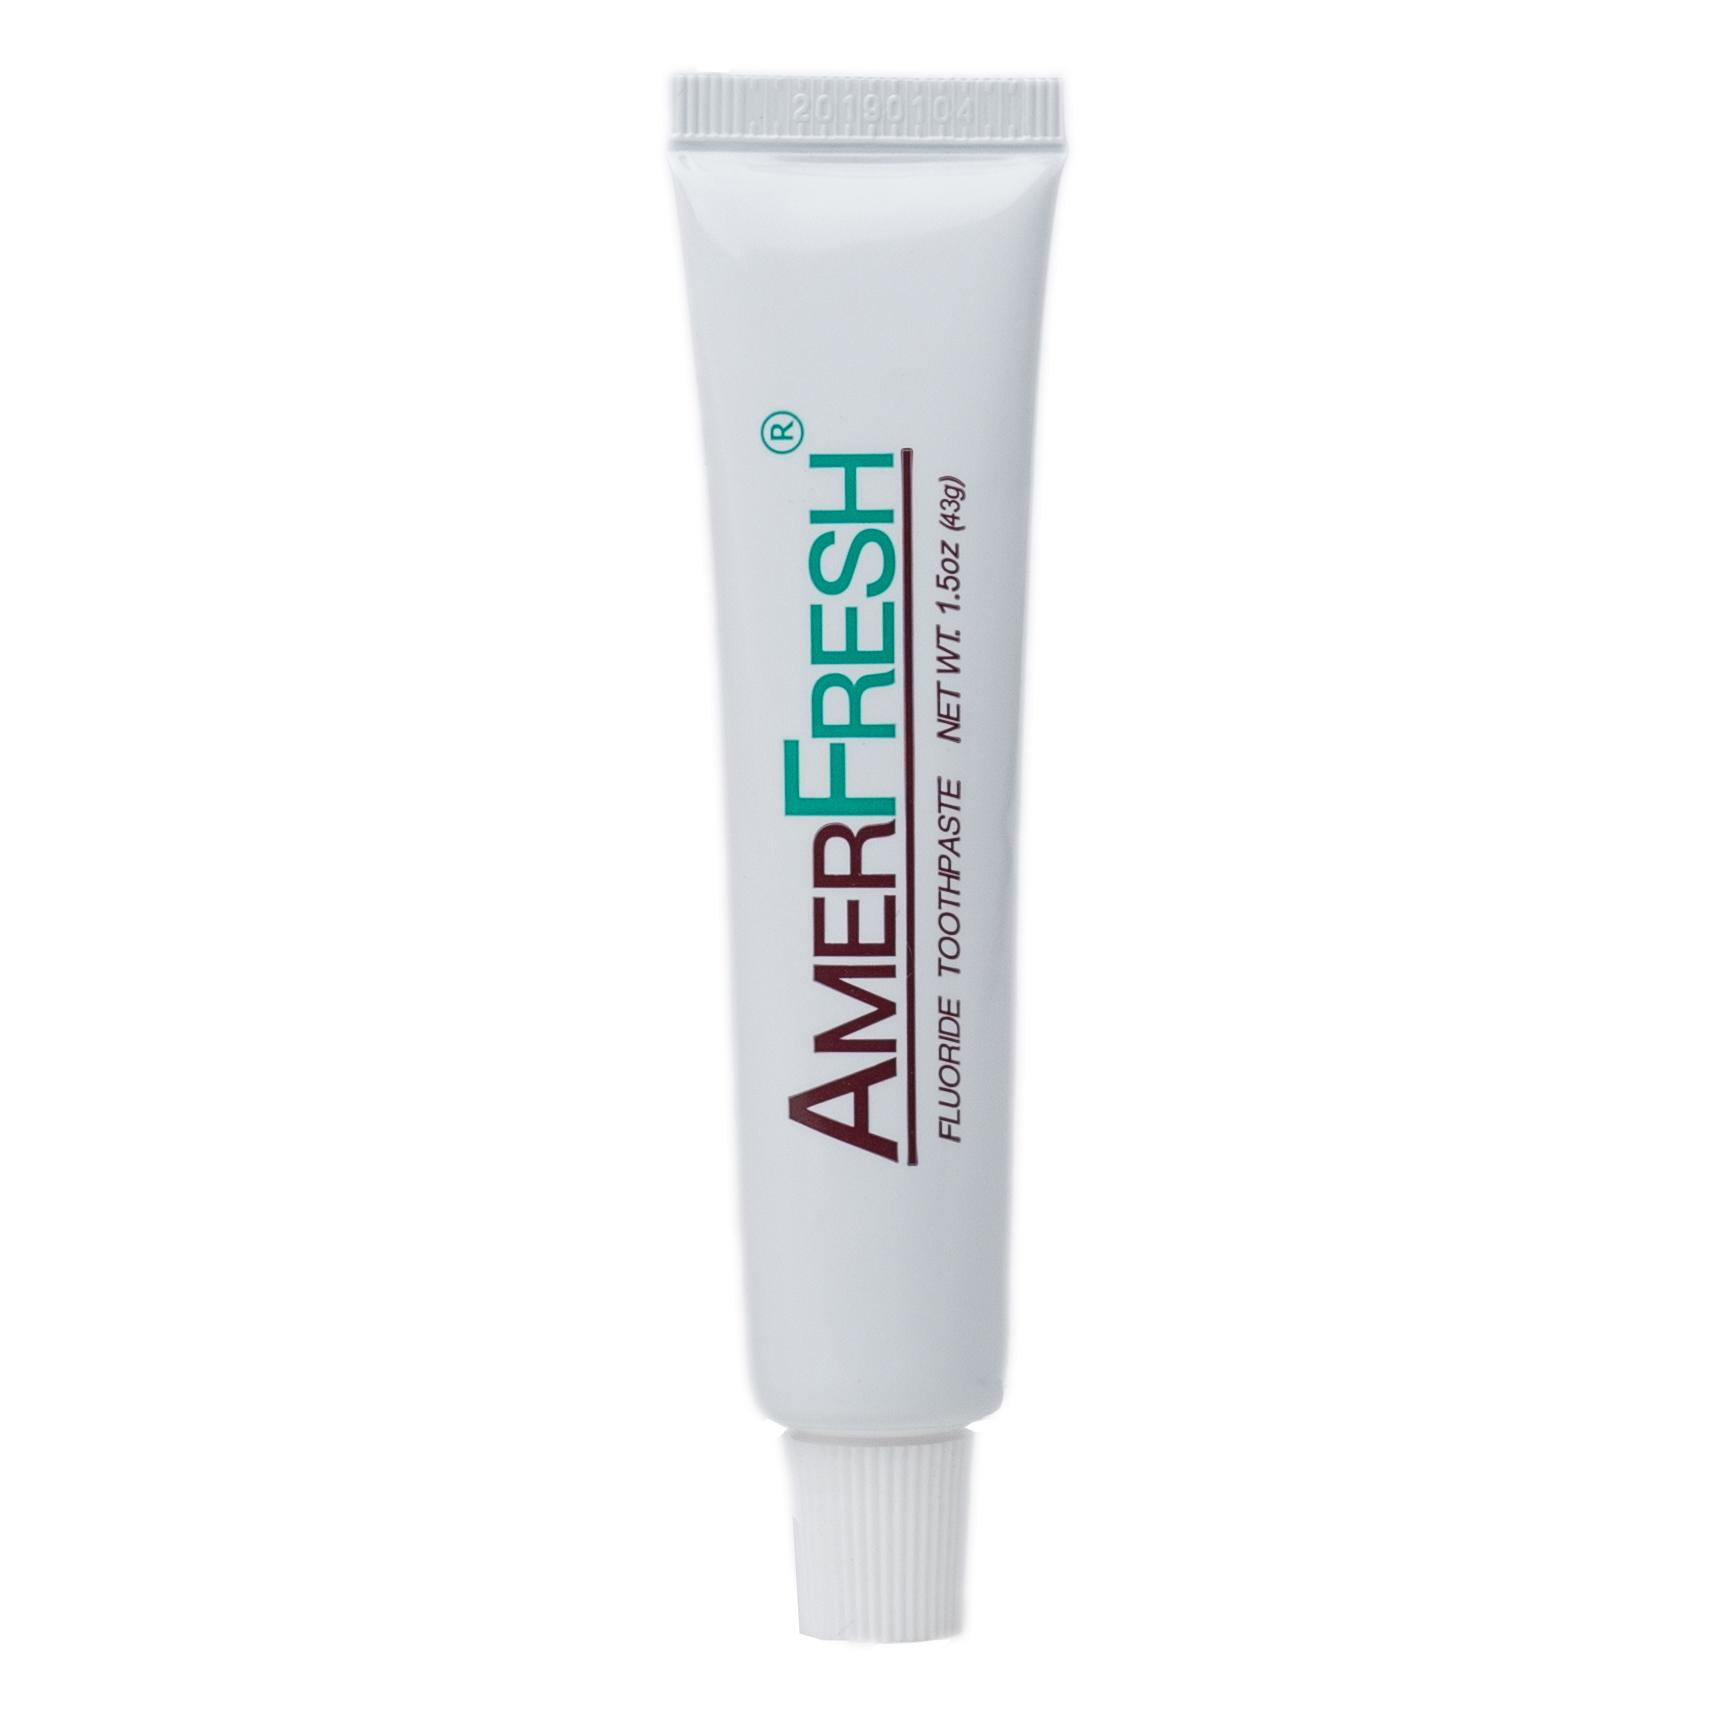toothpaste: (667, 68, 1103, 1644)
